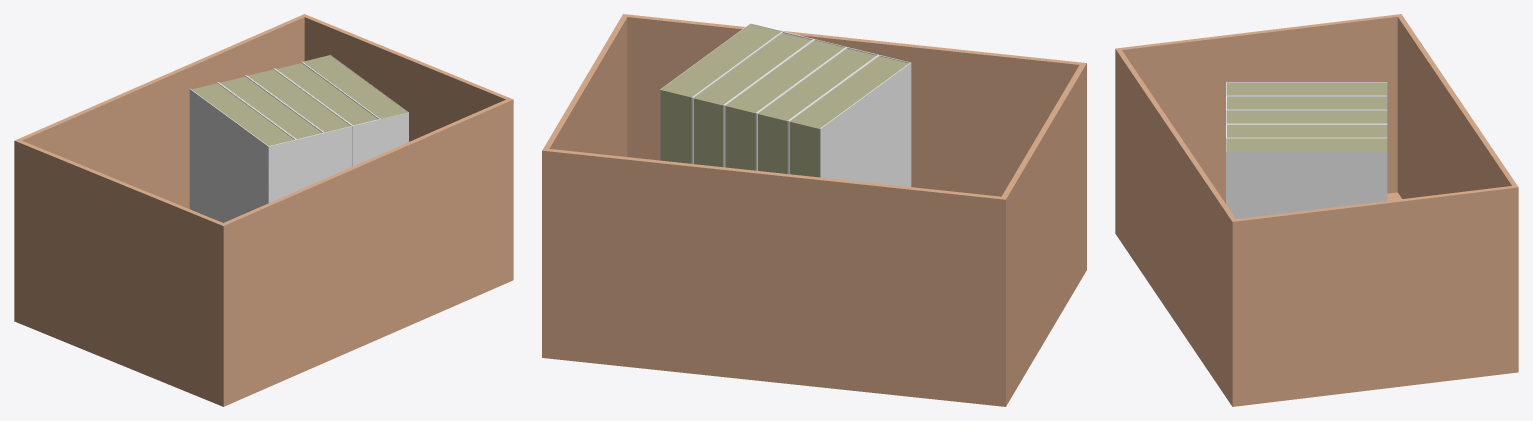
The model's file is CartonRangementAvecLivres.fbx.
3 views of the same model, side by side, from view 1: azimuth 30°, elevation 25°; view 2: azimuth 150°, elevation 25°; view 3: azimuth 270°, elevation 25° (orthographic). The views are drawn at different scales.
Visible parts, largest first — view 1: Book2.002; view 2: Book2.002; view 3: Book2.002.
Boxes of the visible parts, <box> form: Book2.002: <box>14,14,513,406</box>; Book2.002: <box>542,14,1086,406</box>; Book2.002: <box>1115,14,1518,406</box>.
Size of the model in its own units: 133 by 60.15 by 109.
